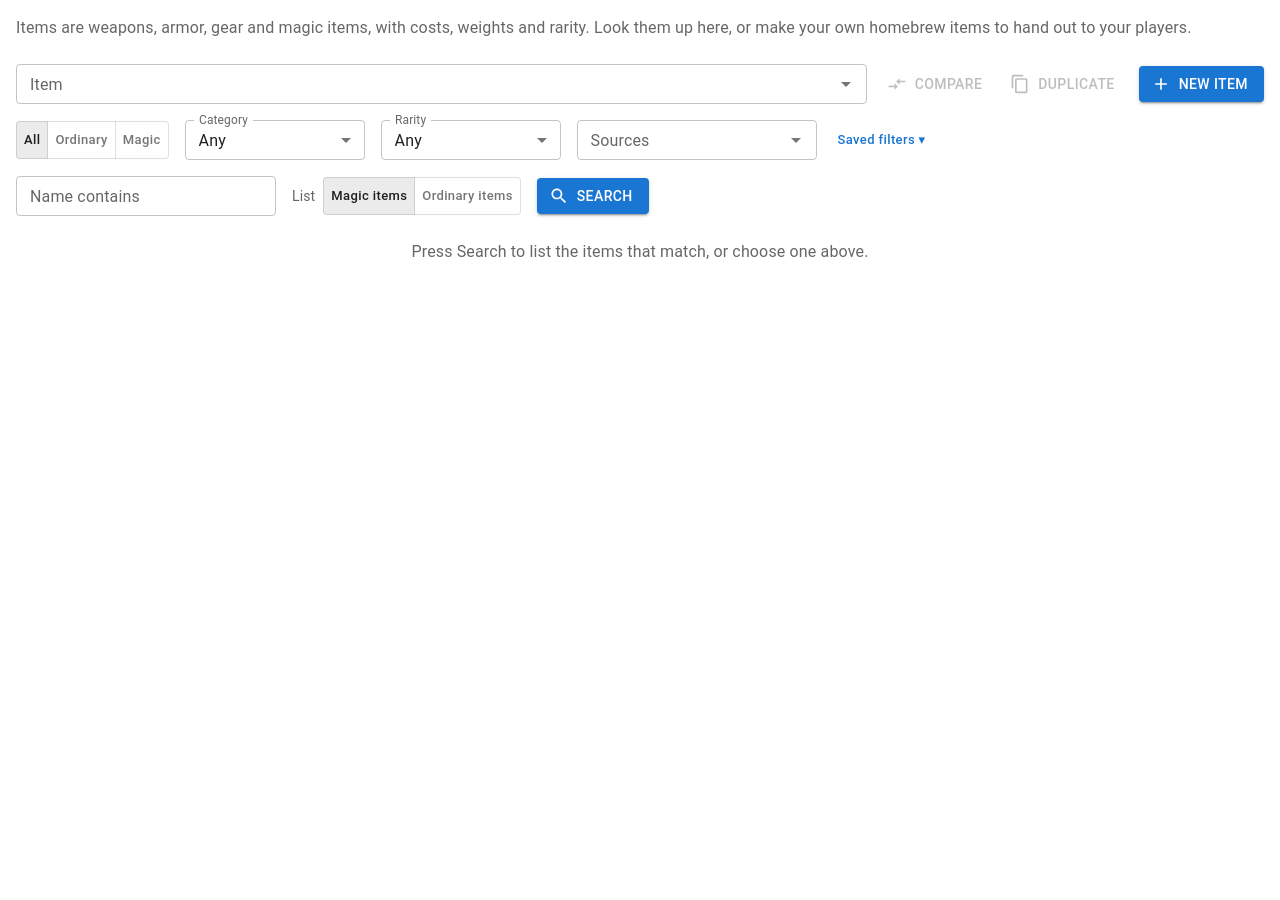
Test: items in a document shared with the user › says which document an editor is deleting from
Type "lantern" into the dropdown labelled "Item" at {"x": 425, "y": 84}, box [22, 70, 828, 98]
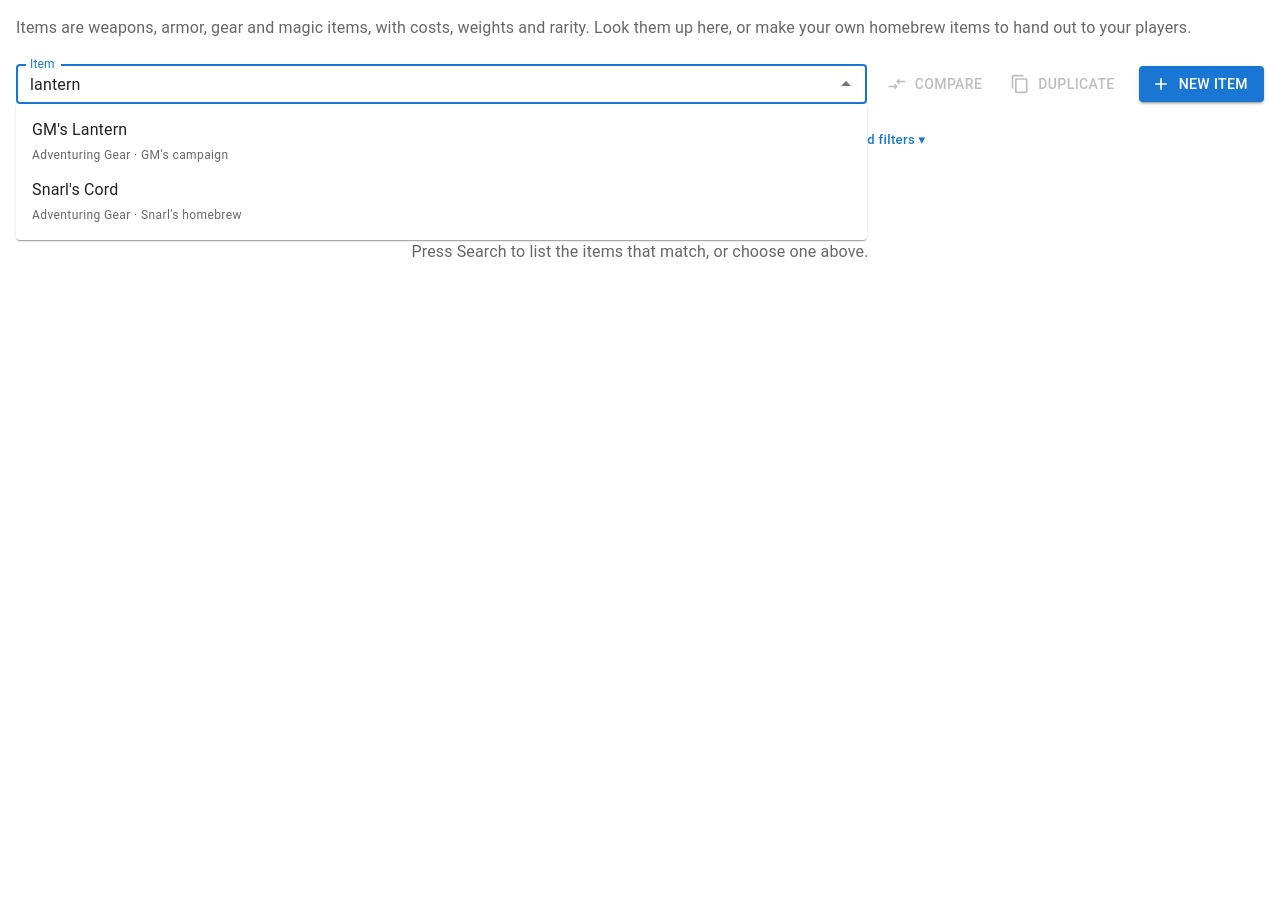
Expected: the option "GM's Lantern Adventuring Gear · GM's campaign" is shown
Click the option "GM's Lantern Adventuring Gear · GM's campaign" at {"x": 80, "y": 130}, box [32, 120, 228, 162]
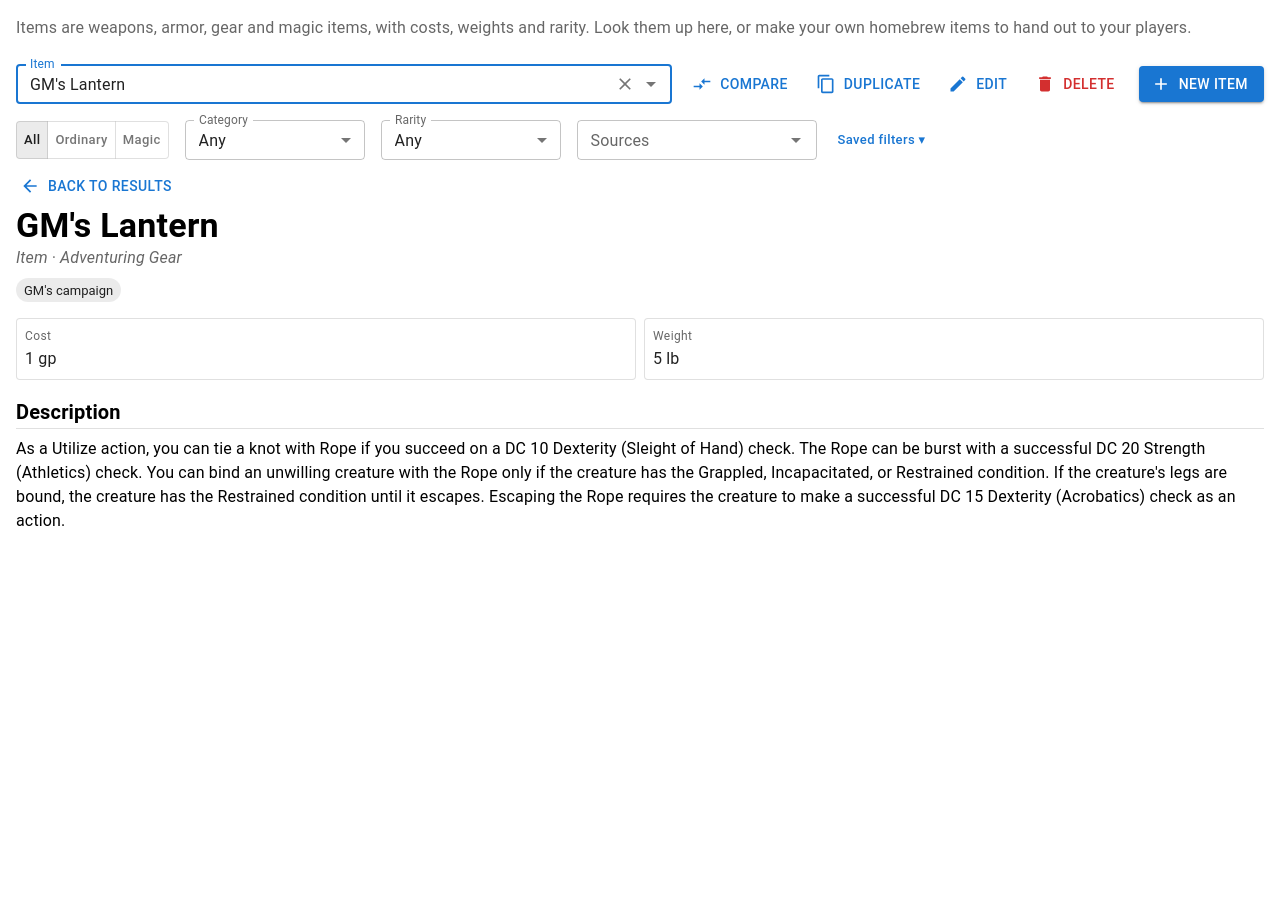
Click the button "Delete" at {"x": 1077, "y": 84}, box [1031, 66, 1123, 102]
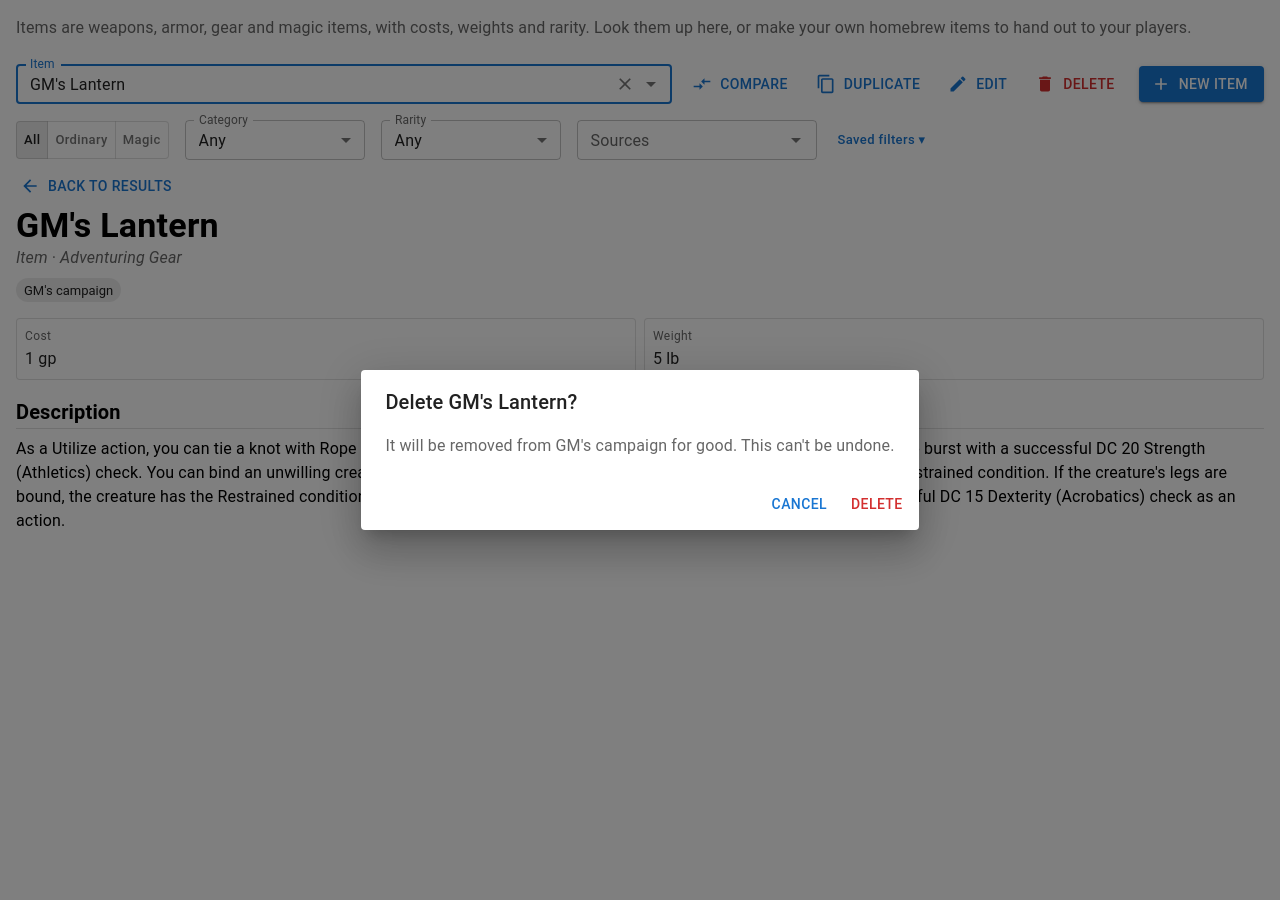
Expected: the text "It will be removed from GM's campaign for good. This can't be undone." is shown, [385, 434, 895, 458]
Click the button "Delete" at {"x": 877, "y": 504}, box [843, 486, 911, 522]
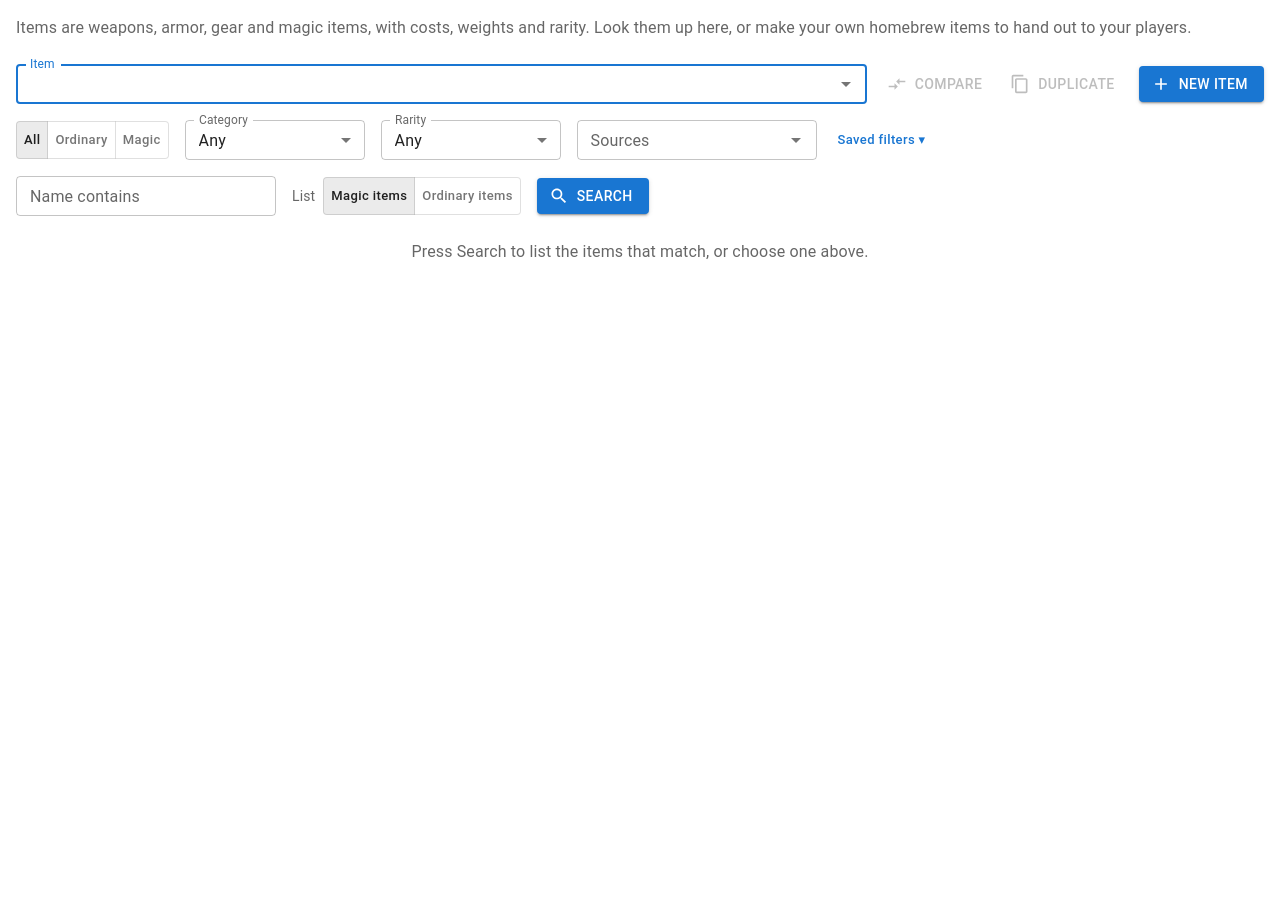
Expected: the text "Press Search to list the items that match, or choose one above." is shown, [412, 242, 869, 261]
